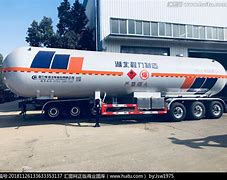oil truck: (1, 35, 226, 134)
